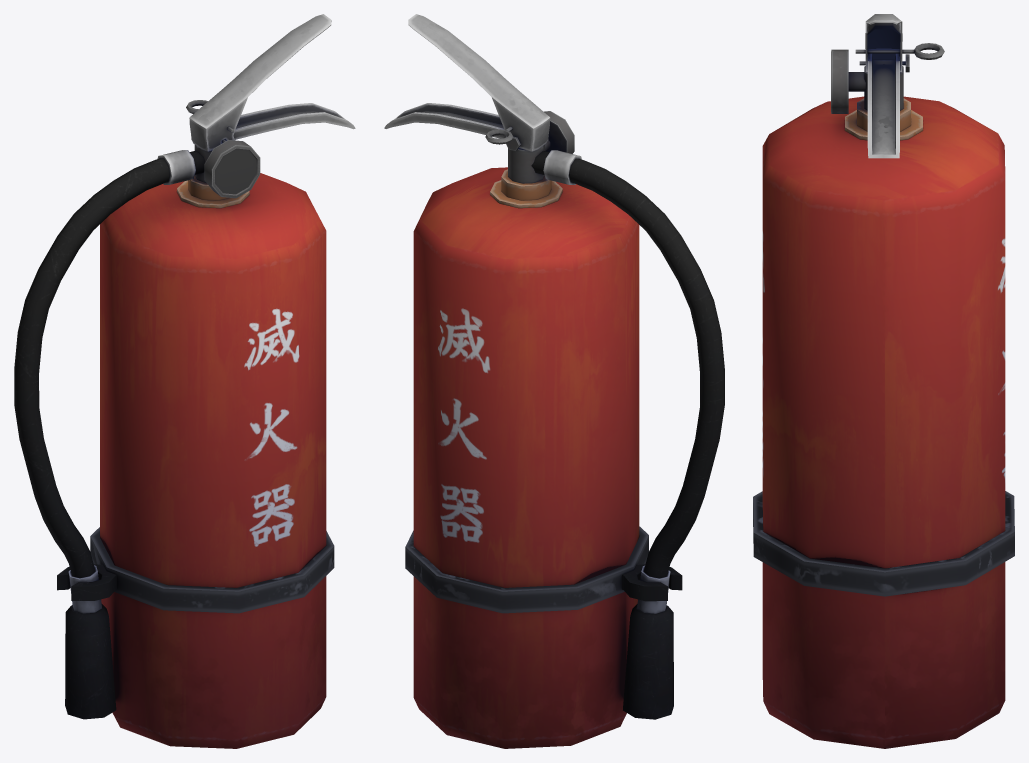
The model's file is Fire_Extinguisher.fbx.
3 views of the same model, side by side, from view 1: azimuth 30°, elevation 25°; view 2: azimuth 150°, elevation 25°; view 3: azimuth 270°, elevation 25° (orthographic). The views are drawn at different scales.
Parts seen in each view (by area): view 1: Fire_Extinguisher; view 2: Fire_Extinguisher; view 3: Fire_Extinguisher.
Boxes of the visible parts, x1,y1,x2,y2 form: Fire_Extinguisher: [14, 14, 355, 748]; Fire_Extinguisher: [384, 14, 724, 748]; Fire_Extinguisher: [753, 14, 1014, 748].
Size of the model in its own units: 29.8 by 56.4 by 18.12.
